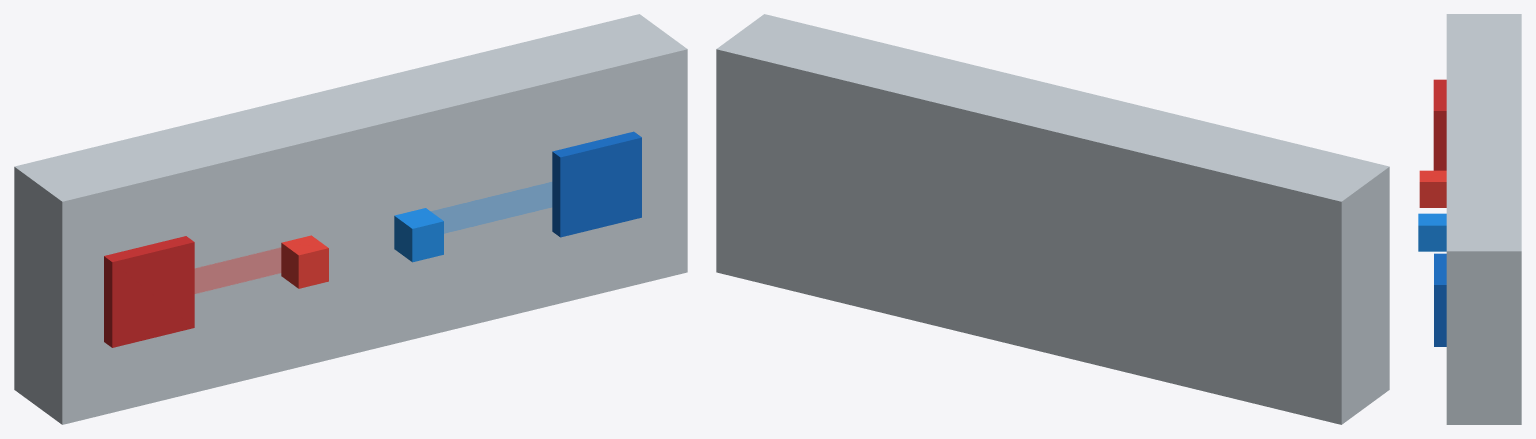
The model's file is fight.fbx.
3 views of the same model, side by side, from view 1: azimuth 30°, elevation 25°; view 2: azimuth 150°, elevation 25°; view 3: azimuth 270°, elevation 25° (orthographic). The views are drawn at different scales.
Parts seen in each view (by area): view 1: mesh_id29, mesh_id55, mesh_id61, mesh_id83, mesh_id79; view 2: mesh_id29; view 3: mesh_id29, mesh_id55, mesh_id61, mesh_id83, mesh_id79.
Part boxes in pixels (x1=…): mesh_id29: x1=14, y1=14, x2=687, y2=424; mesh_id55: x1=104, y1=236, x2=194, y2=347; mesh_id61: x1=552, y1=131, x2=641, y2=237; mesh_id83: x1=394, y1=208, x2=443, y2=262; mesh_id79: x1=281, y1=235, x2=328, y2=288; mesh_id29: x1=716, y1=14, x2=1389, y2=424; mesh_id29: x1=1446, y1=14, x2=1521, y2=424; mesh_id55: x1=1433, y1=79, x2=1446, y2=170; mesh_id61: x1=1434, y1=253, x2=1446, y2=346; mesh_id83: x1=1418, y1=213, x2=1446, y2=251; mesh_id79: x1=1419, y1=170, x2=1446, y2=207.
Size of the model in its own units: 1605 by 547 by 295.
Materials: 5 (5 with a texture image).
